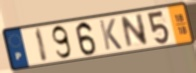5: (146, 9, 171, 45)
6: (74, 20, 98, 57)
9: (51, 24, 73, 60)
I: (34, 27, 50, 64)
K: (97, 17, 124, 51)
N: (120, 12, 150, 50)
